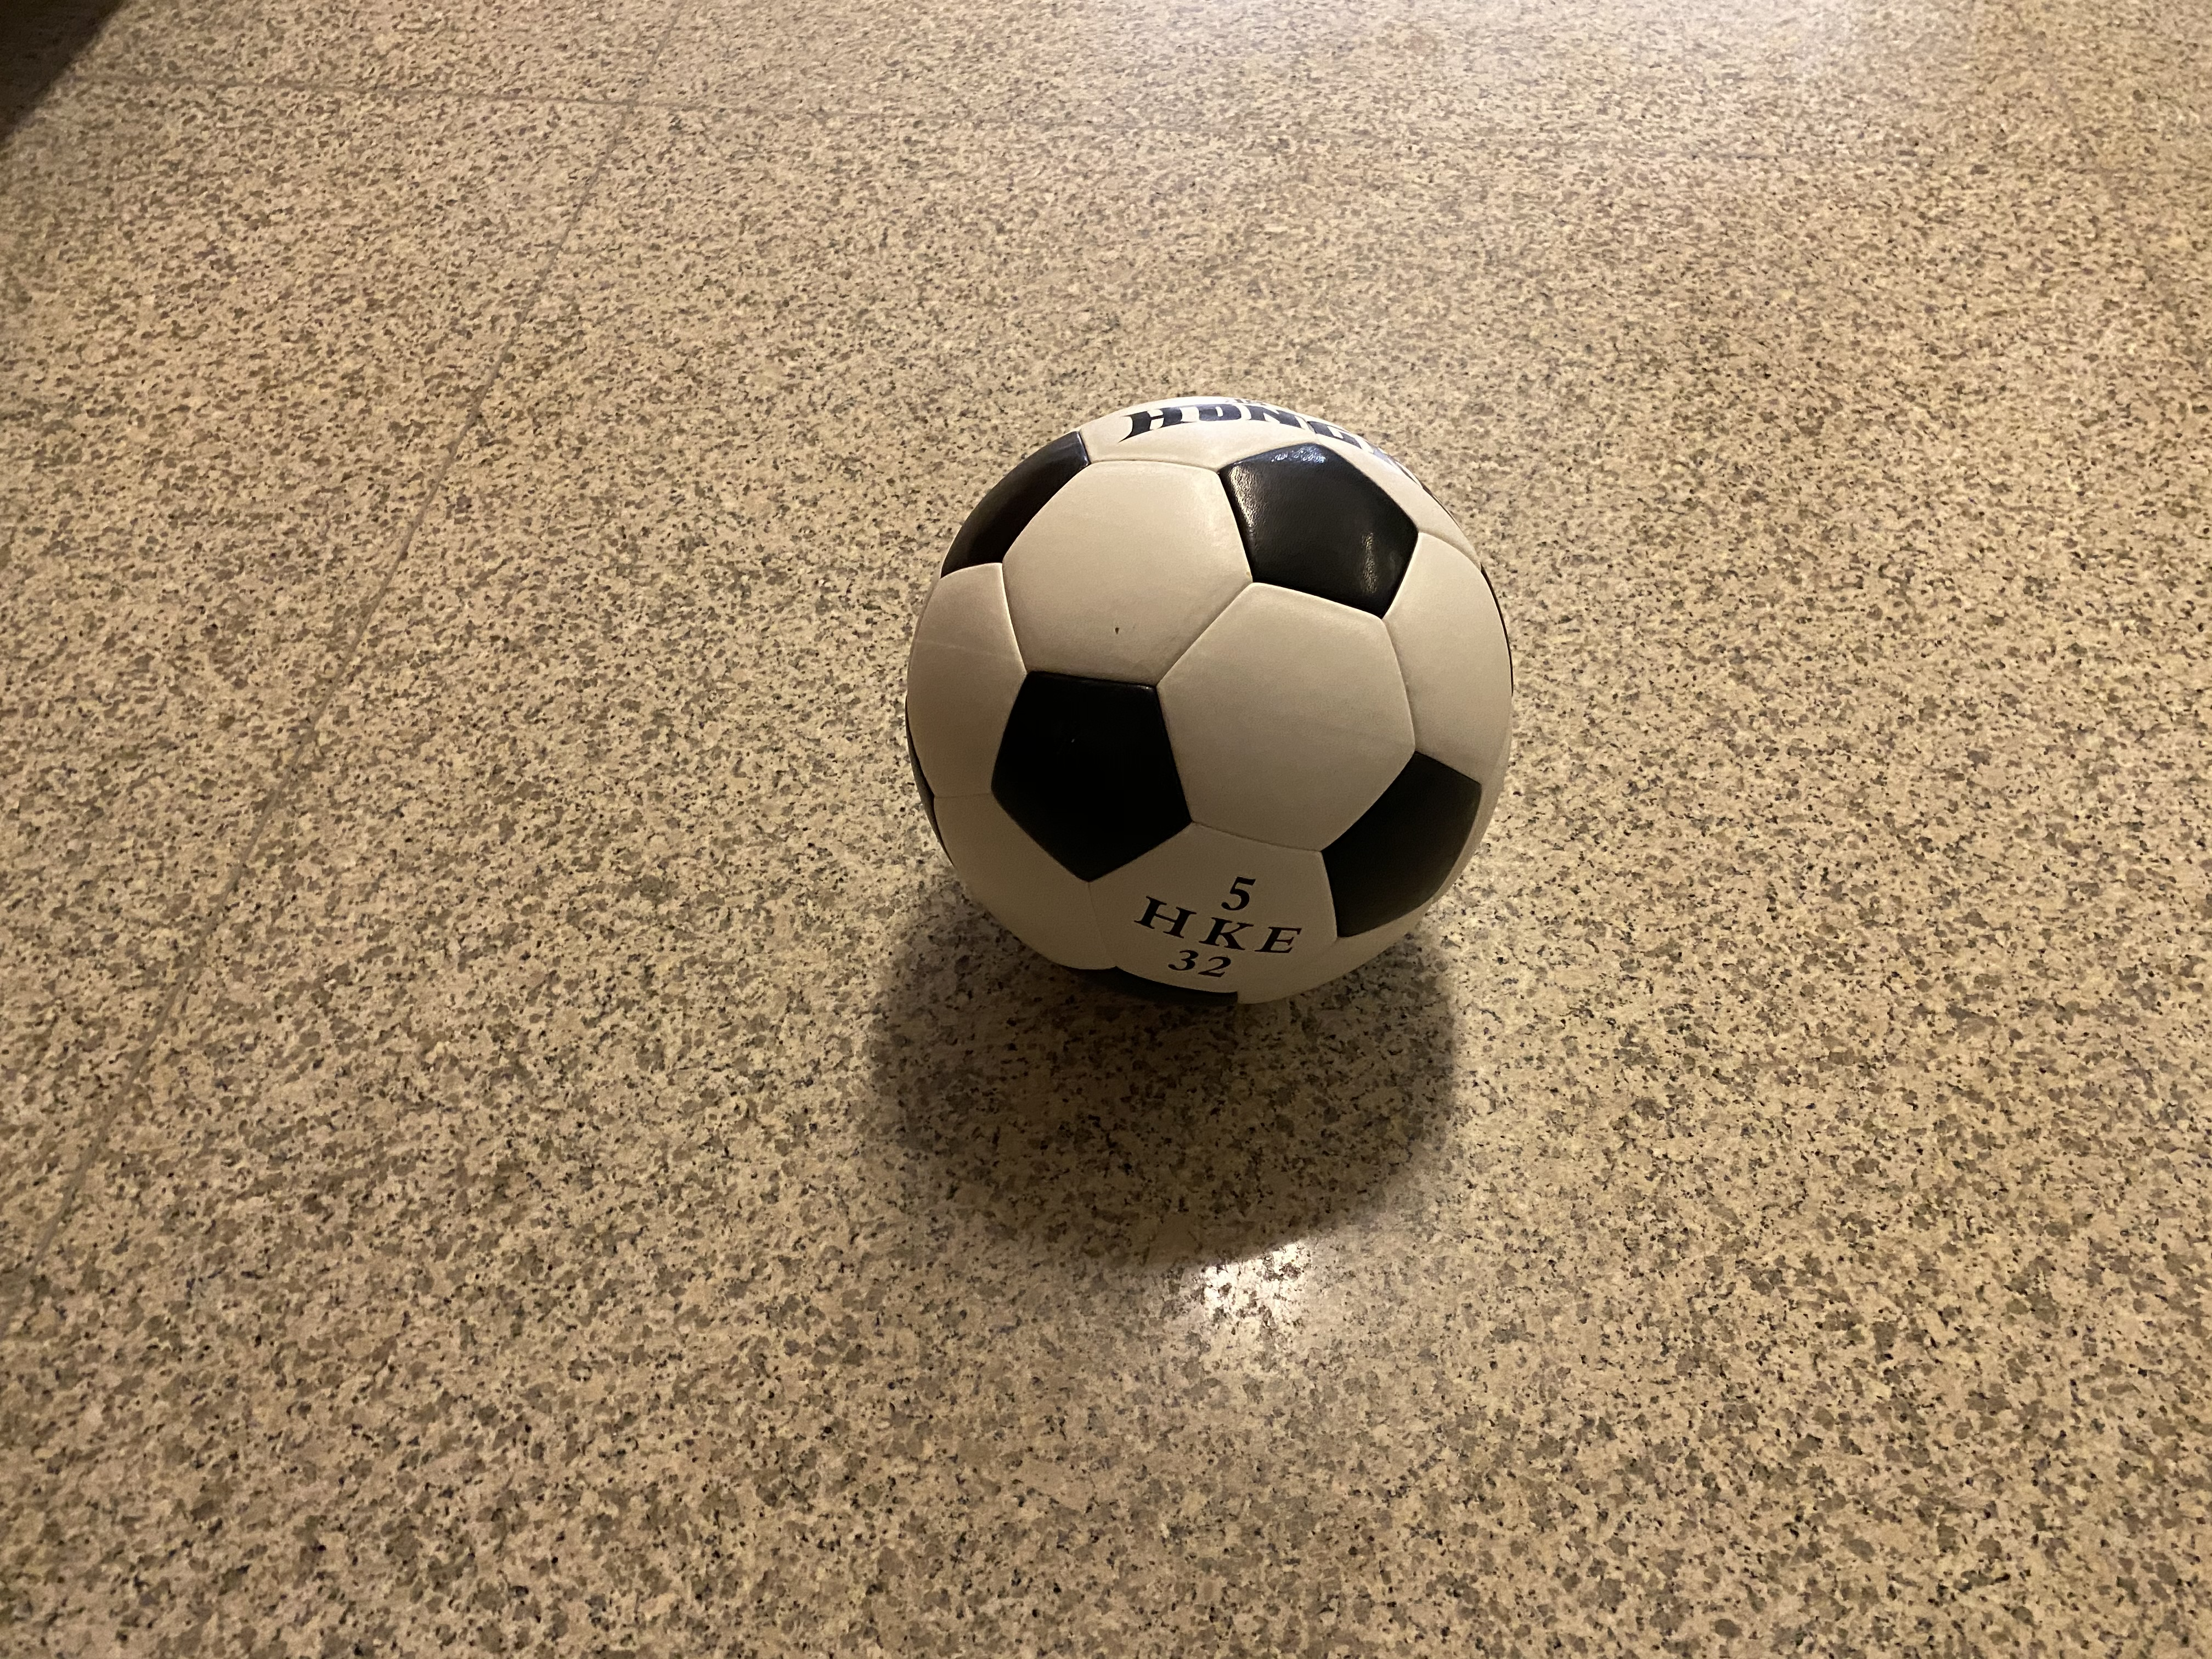football: (911, 415, 1515, 1000)
